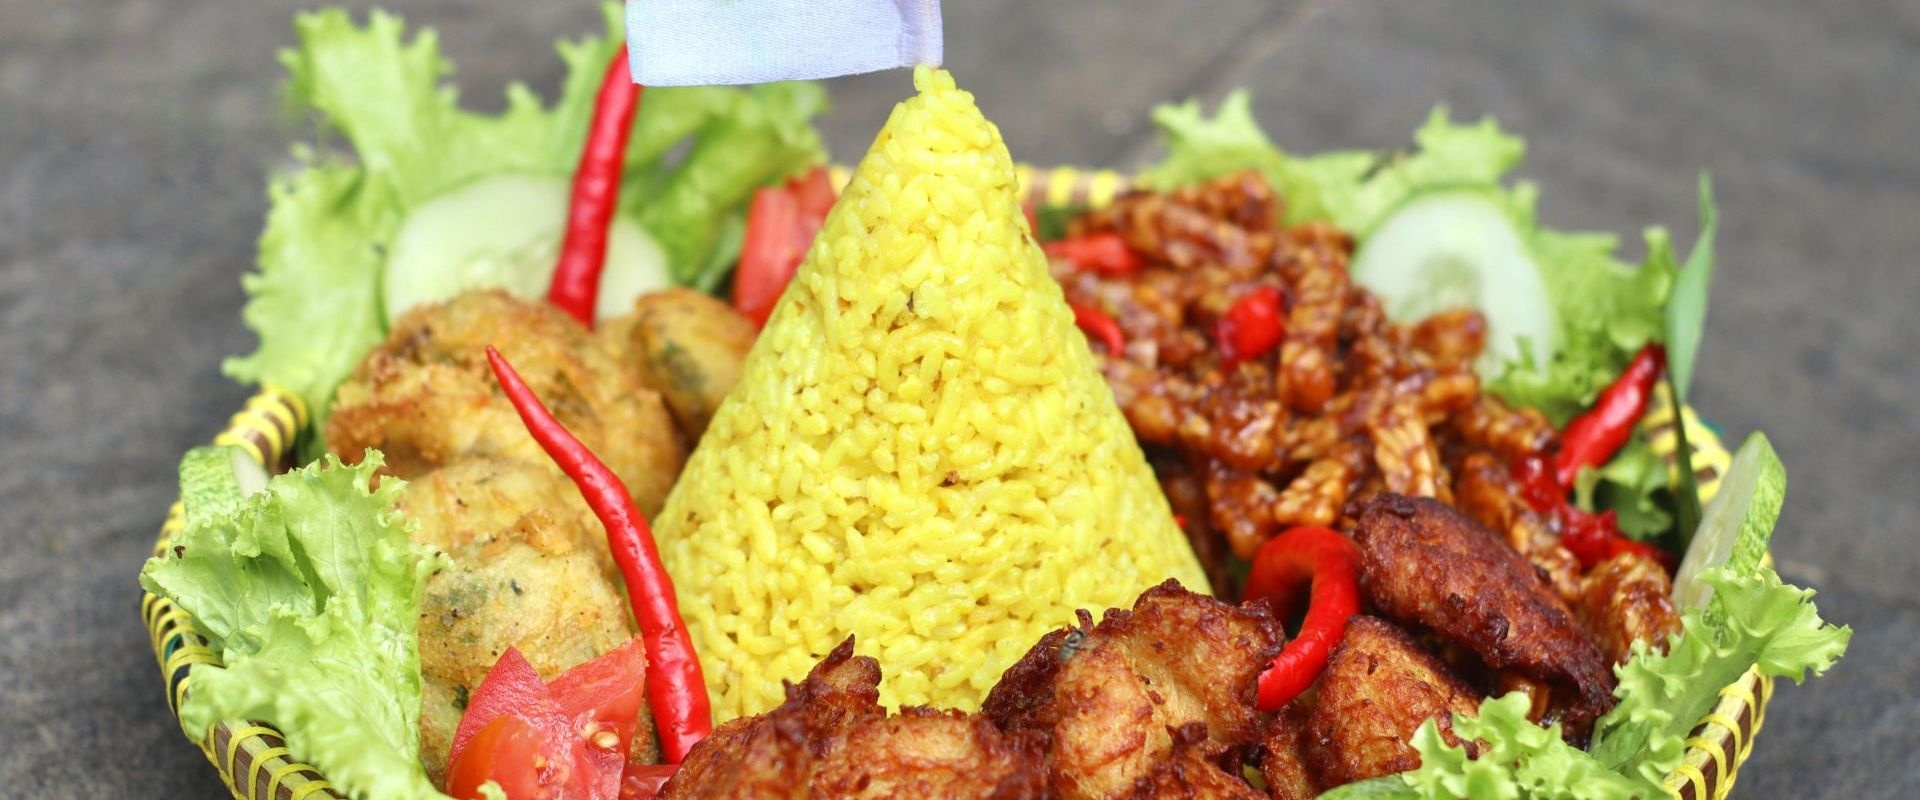nasi_tumpeng: (146, 62, 1685, 800)
